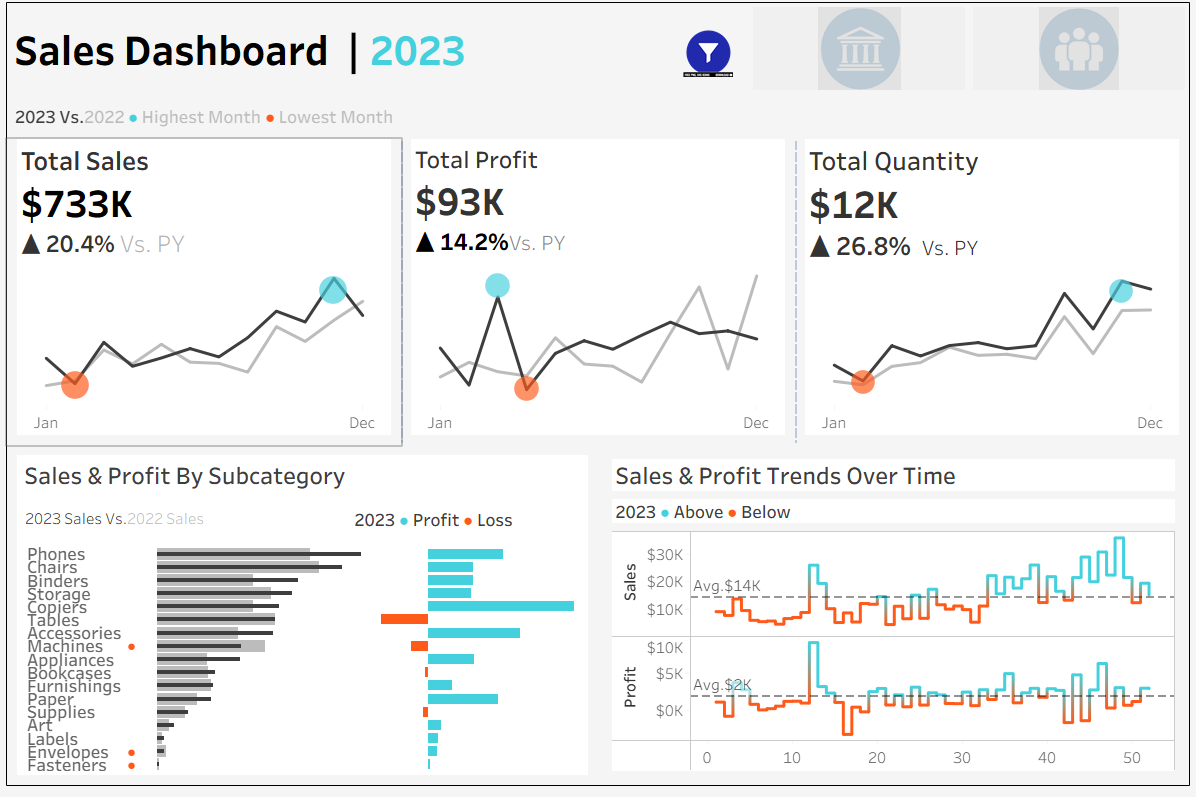

The dashboard page shown, as its layout file describes it:
{"tool":"tableau","page":{"name":"Sales Dashboard","canvas":[1200,800],"ordinal":0},"visuals":[{"type":"text","box":[9,9,742,91]},{"type":"dashboard-object","box":[751,9,220,91]},{"type":"dashboard-object","box":[971,9,220,91]},{"type":"blank","box":[1002,10,179,63]},{"type":"dashboard-object","box":[681,33,59,50]},{"type":"text","box":[1002,73,179,33]},{"type":"worksheet","title":"Legends KPI","mark":"Automatic","box":[9,100,1182,45]},{"type":"parameter","param":"[Parameters].[Parameter 1465981908066308]","box":[1002,106,179,56]},{"type":"worksheet","title":"KPI Sales","mark":"Automatic","rows":["Calculation_1465981910577181"],"cols":["Order Date"],"box":[9,145,394,306]},{"type":"worksheet","title":"KPI Profit","mark":"Automatic","rows":["Calculation_1465981910659102"],"cols":["Order Date"],"box":[403,145,394,306]},{"type":"worksheet","title":"KPI Quantity","mark":"Automatic","rows":["Calculation_1465981910708255"],"cols":["Order Date"],"box":[797,145,394,306]},{"type":"blank","box":[1002,162,179,57]},{"type":"text","box":[1002,219,179,33]},{"type":"filter","title":"KPI Sales","param":"[federated.06ch0y21drb43v1fzddnq0qompwj].[none:Category:nk]","box":[1002,252,179,61]},{"type":"filter","title":"KPI Sales","param":"[federated.06ch0y21drb43v1fzddnq0qompwj].[none:Sub-Category:nk]","box":[1002,313,179,61]},{"type":"blank","box":[1002,374,179,63]},{"type":"text","box":[1002,437,179,33]},{"type":"text","box":[19,461,571,40]},{"type":"text","box":[610,461,571,40]},{"type":"filter","title":"KPI Sales","param":"[federated.06ch0y21drb43v1fzddnq0qompwj].[none:Country/Region:nk]","box":[1002,470,179,61]},{"type":"worksheet","title":"Legends Subcategory","mark":"Automatic","box":[19,501,330,48]},{"type":"text","box":[349,501,241,48]},{"type":"text","box":[610,501,571,32]},{"type":"filter","title":"KPI Sales","param":"[federated.06ch0y21drb43v1fzddnq0qompwj].[none:City:nk]","box":[1002,531,179,61]},{"type":"worksheet","title":"Weekly Sales Profit","mark":"Automatic","rows":["Calculation_1465981908852743","Calculation_1465981908930568"],"cols":["Order Date"],"box":[610,533,571,248]},{"type":"worksheet","title":"Sales&Profit By Subcategory","mark":"Bar","rows":["Sub-Category","Calculation_1465981910368282"],"cols":["Calculation_1465981909405708","Calculation_1465981908852743","Calculation_1465981908930568"],"box":[19,549,571,231.9]}]}

Visuals, with their boxes in screenshot pixels (x1, y1, x2, y2), scaled from the page's 1200x800 canvas onto the 1196x797 screenshot:
text: <region>9, 9, 748, 100</region>
dashboard-object: <region>748, 9, 968, 100</region>
dashboard-object: <region>968, 9, 1187, 100</region>
blank: <region>999, 10, 1177, 73</region>
dashboard-object: <region>679, 33, 738, 83</region>
text: <region>999, 73, 1177, 106</region>
"Legends KPI" worksheet: <region>9, 100, 1187, 144</region>
parameter: <region>999, 106, 1177, 161</region>
"KPI Sales" worksheet: <region>9, 144, 402, 449</region>
"KPI Profit" worksheet: <region>402, 144, 794, 449</region>
"KPI Quantity" worksheet: <region>794, 144, 1187, 449</region>
blank: <region>999, 161, 1177, 218</region>
text: <region>999, 218, 1177, 251</region>
"KPI Sales" filter: <region>999, 251, 1177, 312</region>
"KPI Sales" filter: <region>999, 312, 1177, 373</region>
blank: <region>999, 373, 1177, 435</region>
text: <region>999, 435, 1177, 468</region>
text: <region>19, 459, 588, 499</region>
text: <region>608, 459, 1177, 499</region>
"KPI Sales" filter: <region>999, 468, 1177, 529</region>
"Legends Subcategory" worksheet: <region>19, 499, 348, 547</region>
text: <region>348, 499, 588, 547</region>
text: <region>608, 499, 1177, 531</region>
"KPI Sales" filter: <region>999, 529, 1177, 590</region>
"Weekly Sales Profit" worksheet: <region>608, 531, 1177, 778</region>
"Sales&Profit By Subcategory" worksheet (Bar marks): <region>19, 547, 588, 778</region>
